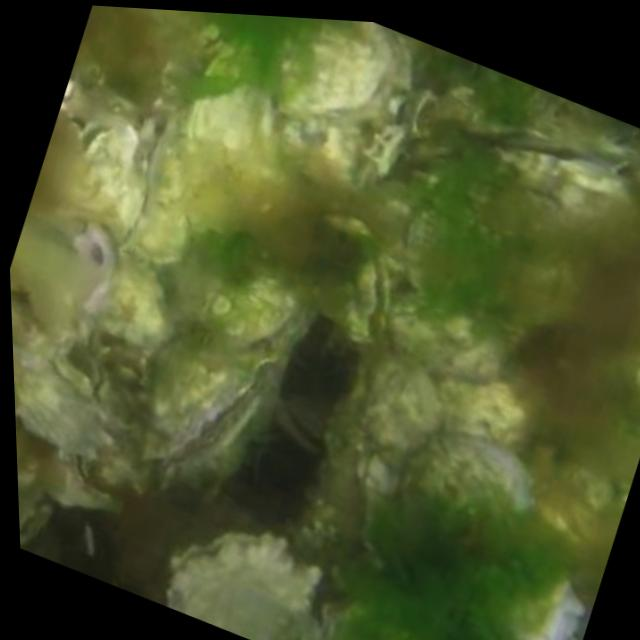Oyster-Closed: (168, 529, 321, 640), (74, 119, 149, 242), (492, 132, 630, 195)
Oyster-Indeterminate: (265, 18, 385, 116), (24, 353, 113, 467), (169, 93, 267, 189), (438, 378, 525, 456)
Oyster-Open: (159, 244, 317, 369), (144, 335, 263, 477), (302, 211, 393, 355), (18, 470, 59, 552), (272, 404, 332, 454)
